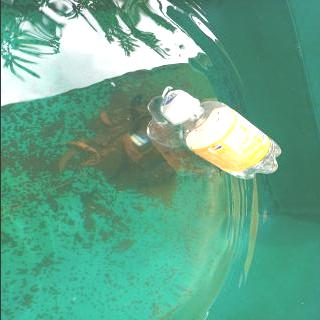bottle: (155, 86, 285, 182)
